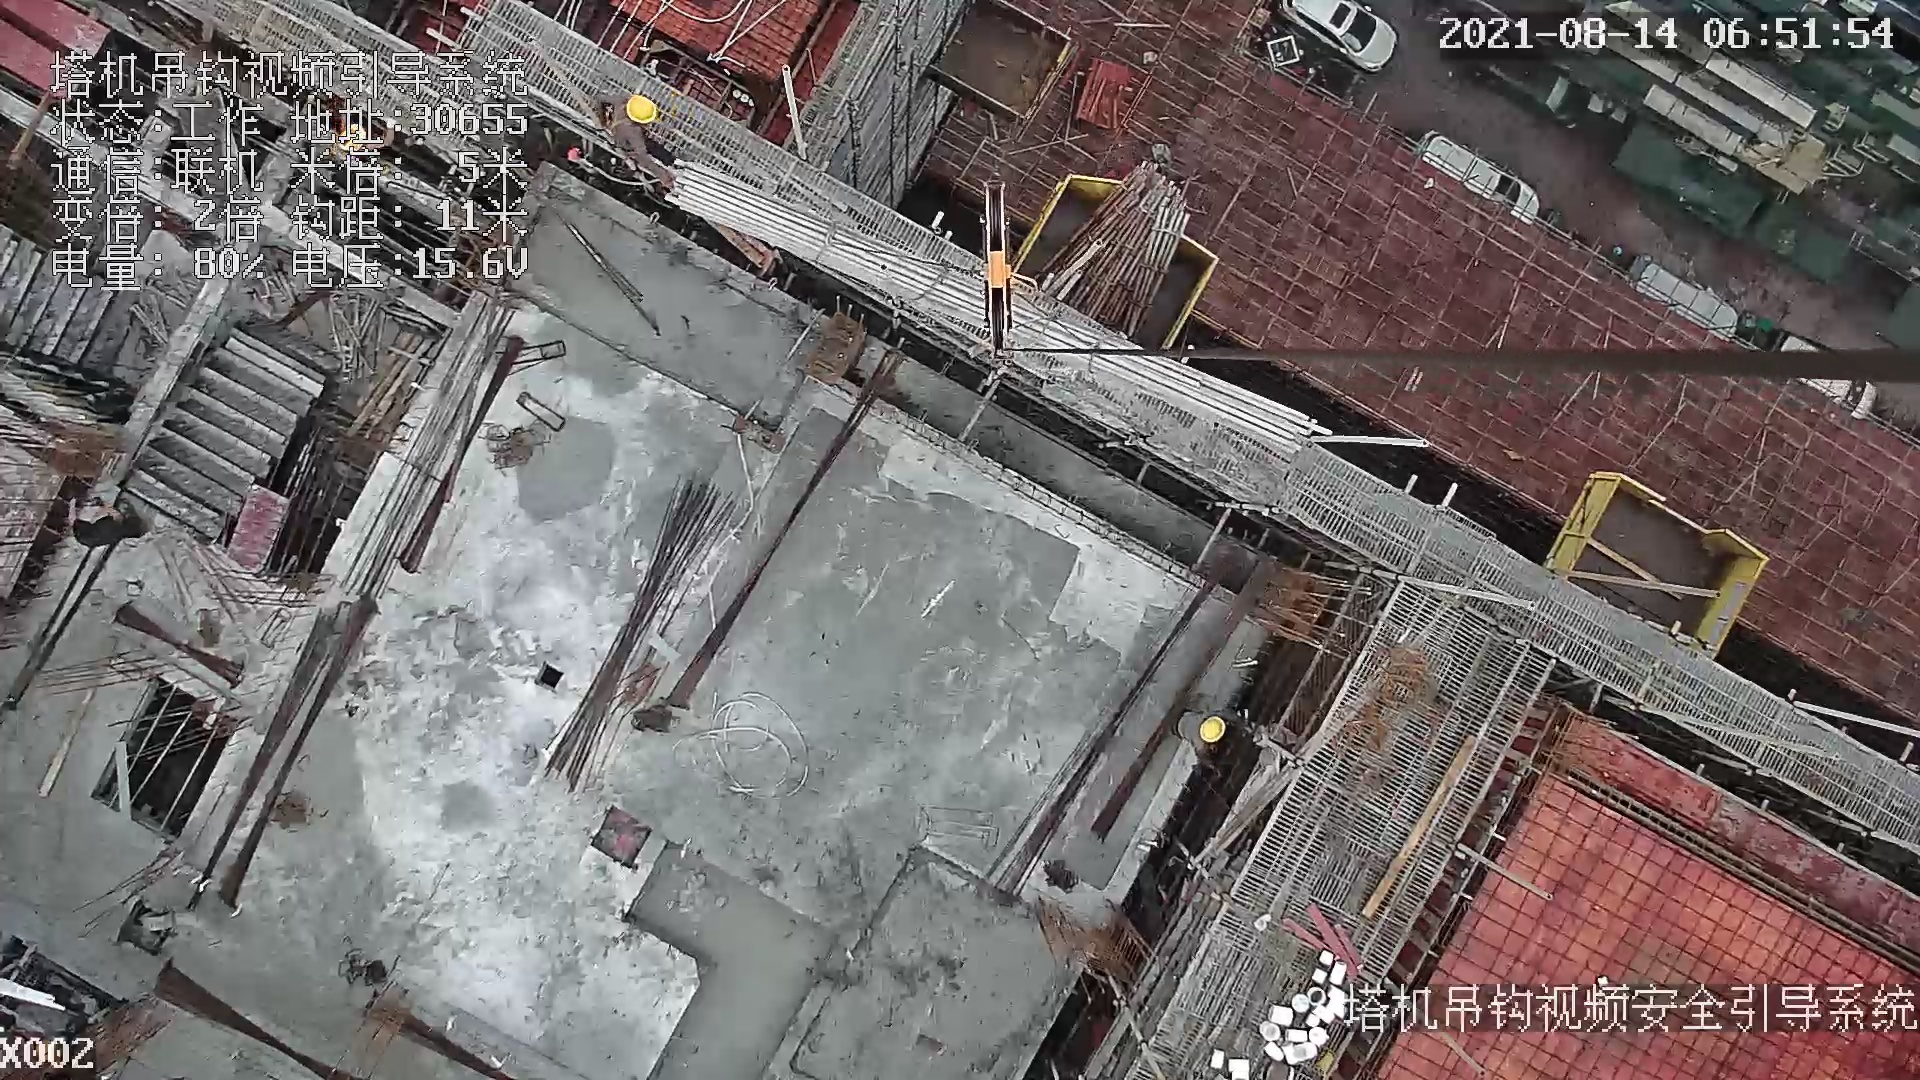helmet: (626, 95, 658, 124), (1199, 715, 1225, 743)
hook: (970, 174, 1041, 359)
person: (588, 89, 682, 197), (1176, 706, 1263, 767), (66, 497, 150, 547)
rebar: (668, 160, 1331, 455), (544, 476, 737, 794)
scaffold: (1046, 160, 1192, 339)
